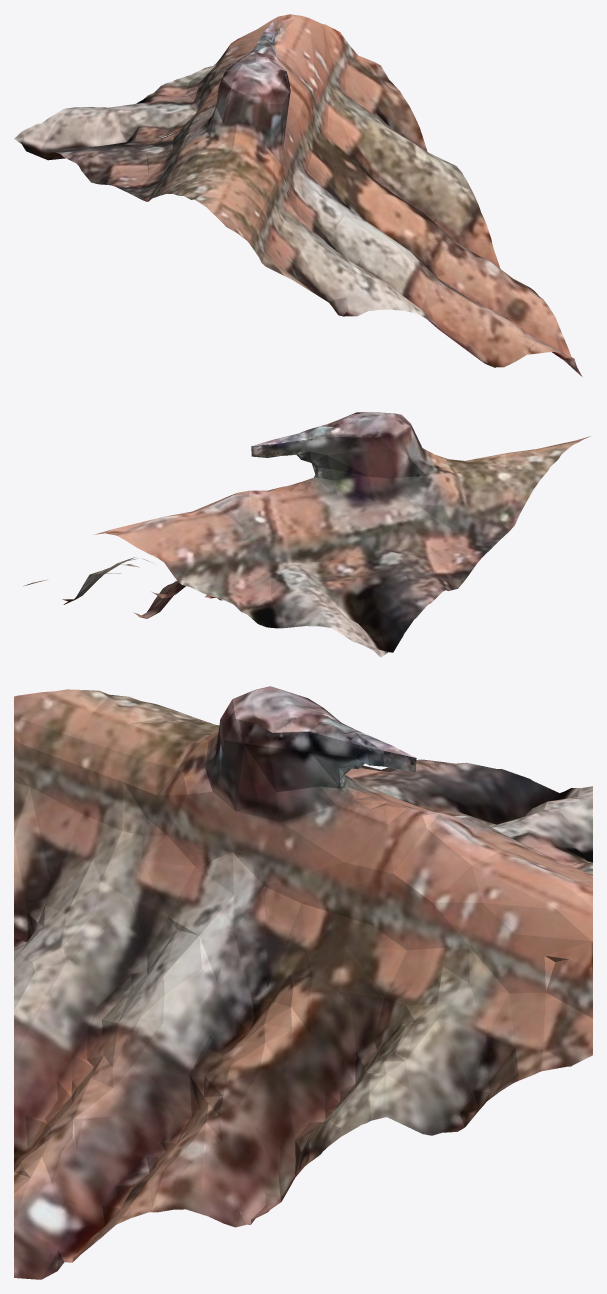
3 renders of one model, top to bottom at view 1: azimuth 30°, elevation 25°; view 2: azimuth 150°, elevation 25°; view 3: azimuth 270°, elevation 25°, orthographic. The views are drawn at different scales.
Size of the model in its own units: 0.8374 by 0.6697 by 0.8373.
3 materials, 3 textured.
